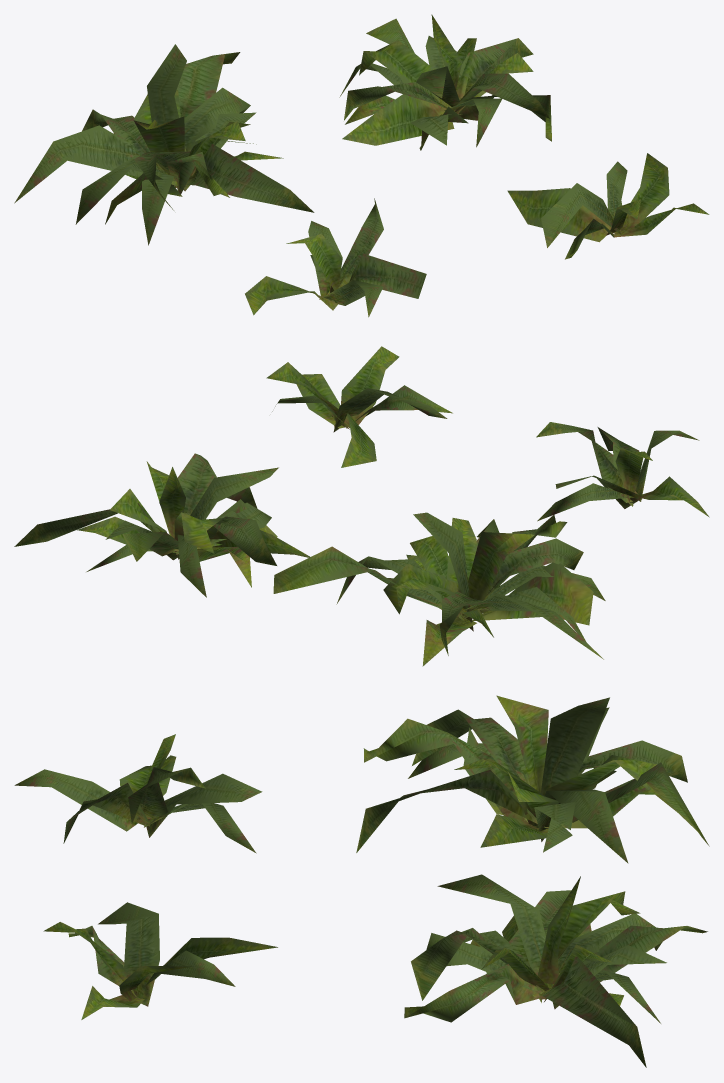
The model's file is fern_02.glb.
3 renders of one model, top to bottom at view 1: azimuth 30°, elevation 25°; view 2: azimuth 150°, elevation 25°; view 3: azimuth 270°, elevation 25°, orthographic. The views are drawn at different scales.
Visible parts, largest first — view 1: fern_02_b, fern_02_c, fern_02_d, fern_02_a; view 2: fern_02_b, fern_02_c, fern_02_d, fern_02_a; view 3: fern_02_b, fern_02_c, fern_02_a, fern_02_d.
Boxes of the visible parts, left/top/right/bottom form: fern_02_b: left=14, top=44, right=314, bottom=245; fern_02_c: left=339, top=14, right=551, bottom=150; fern_02_d: left=507, top=153, right=709, bottom=259; fern_02_a: left=245, top=198, right=426, bottom=317; fern_02_b: left=273, top=512, right=605, bottom=666; fern_02_c: left=14, top=453, right=309, bottom=597; fern_02_d: left=266, top=346, right=452, bottom=467; fern_02_a: left=536, top=422, right=709, bottom=521; fern_02_b: left=356, top=695, right=709, bottom=863; fern_02_c: left=404, top=874, right=707, bottom=1067; fern_02_a: left=14, top=734, right=262, bottom=853; fern_02_d: left=43, top=902, right=277, bottom=1019.
Size of the model in its own units: 1.97 by 0.4246 by 1.72.
Materials: 1 (1 with a texture image).
